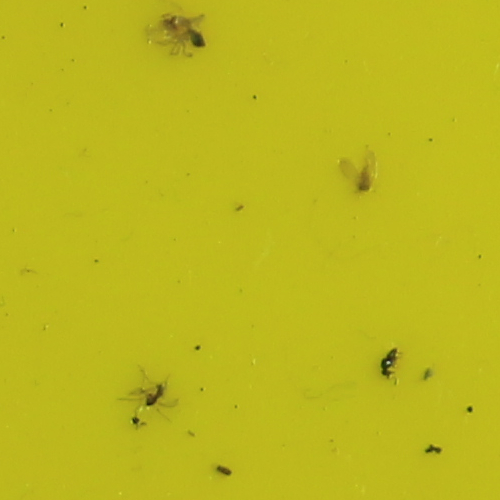psylla: (355, 163, 374, 194)
